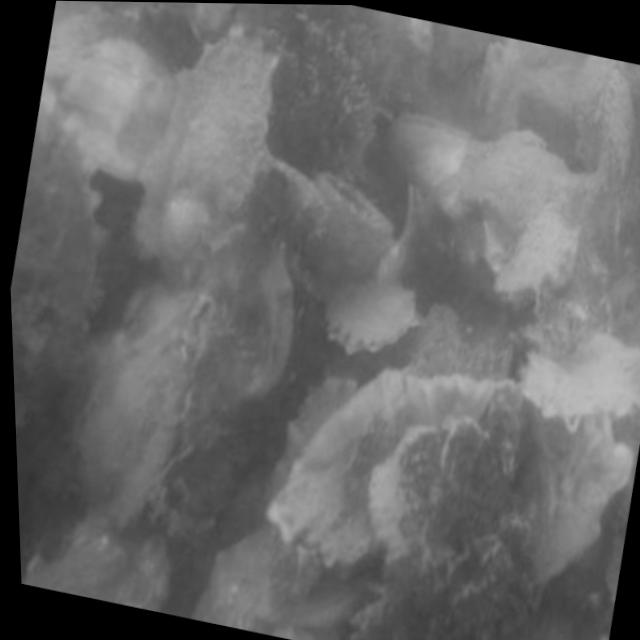Oyster-Closed: (302, 169, 393, 282), (383, 105, 474, 212), (329, 269, 415, 355)
Oyster-Indeterminate: (268, 361, 505, 565), (374, 390, 555, 610), (139, 29, 275, 279), (11, 89, 95, 437), (60, 32, 179, 186), (536, 407, 629, 582), (460, 138, 602, 231), (214, 234, 292, 398), (519, 341, 640, 422), (196, 530, 288, 633), (489, 206, 589, 300), (595, 77, 640, 252), (468, 42, 522, 138)
